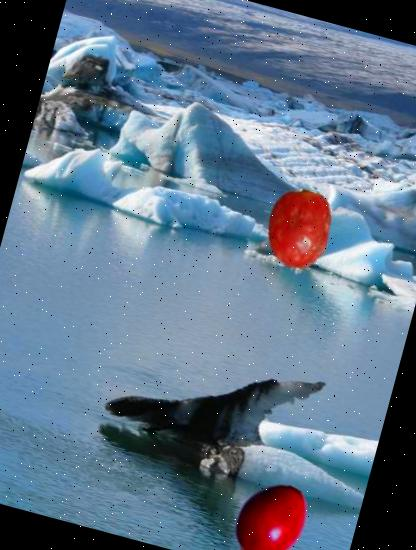Grape: (251, 181, 347, 277)
Tamarillo: (215, 470, 324, 550)
